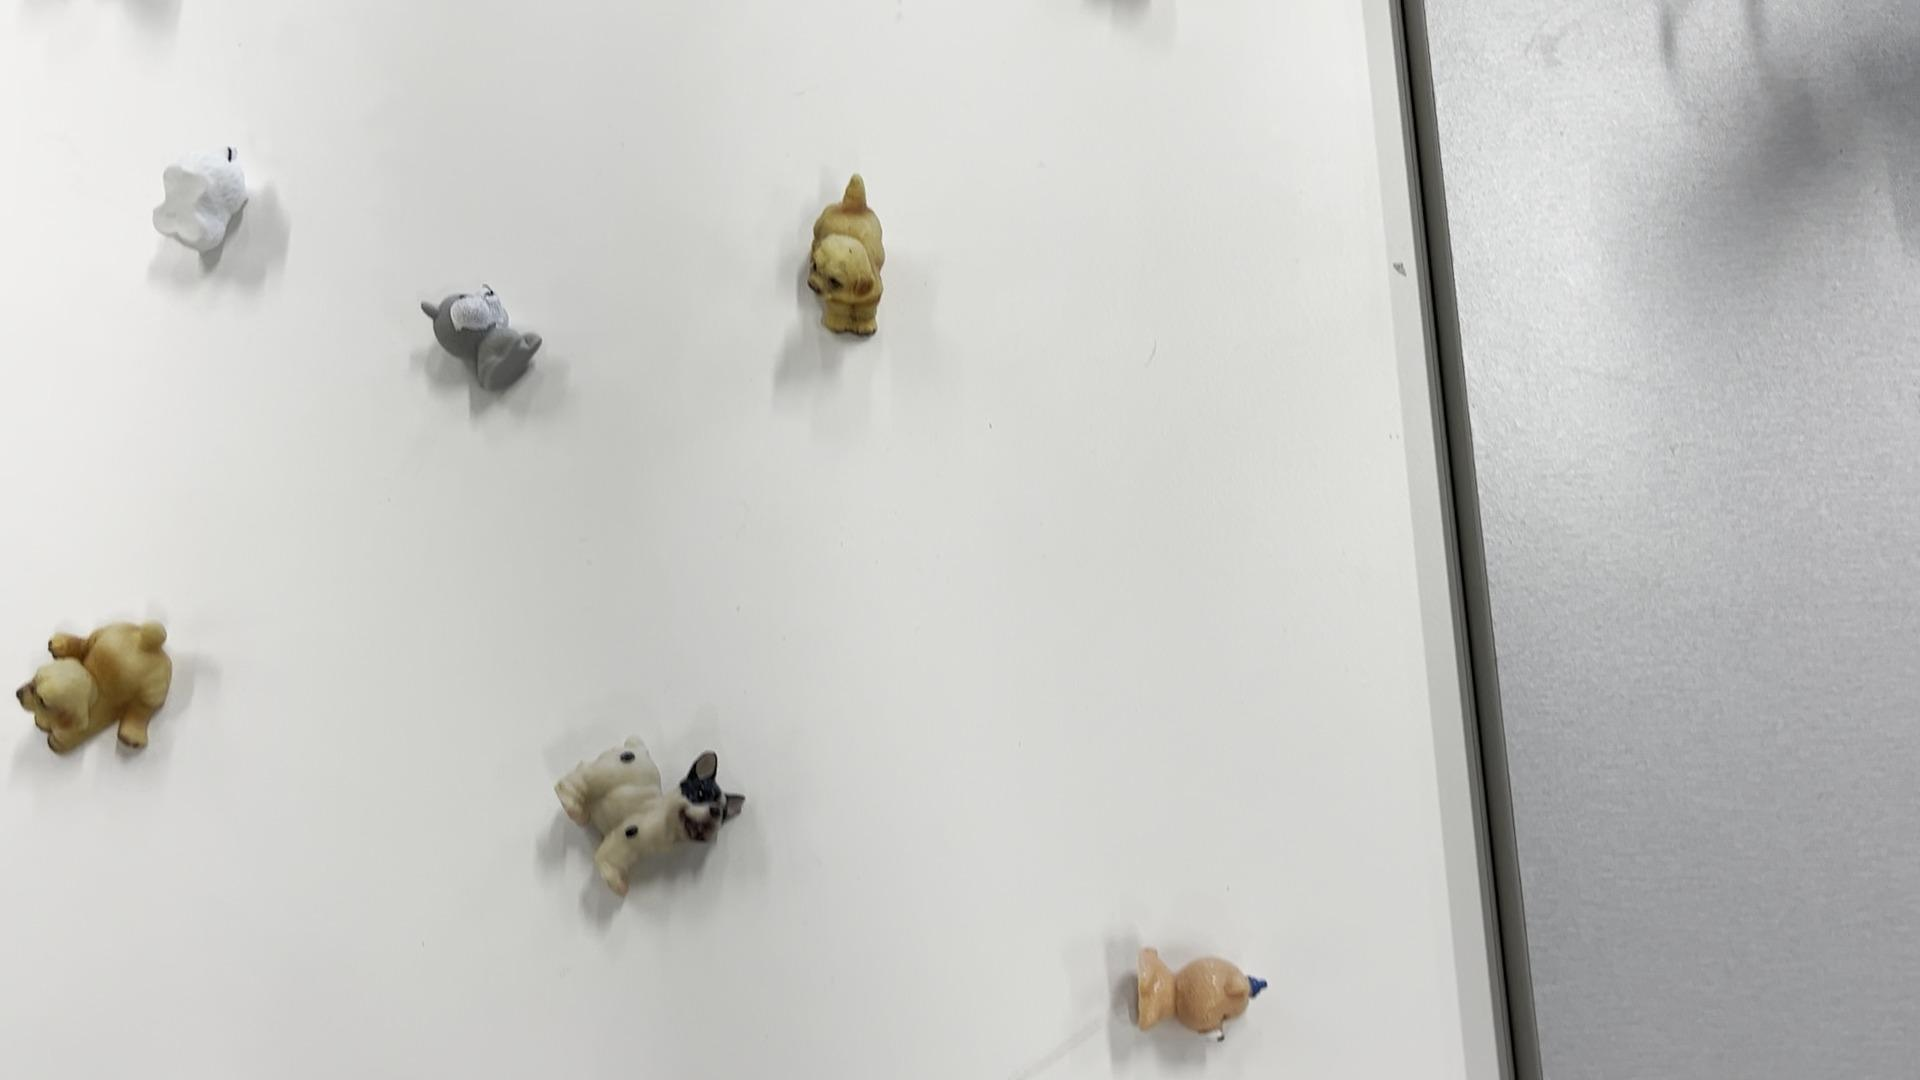pet: (547, 723, 758, 926), (12, 603, 207, 786), (781, 169, 905, 360), (1118, 926, 1300, 1043), (407, 276, 553, 415), (145, 125, 256, 290)
